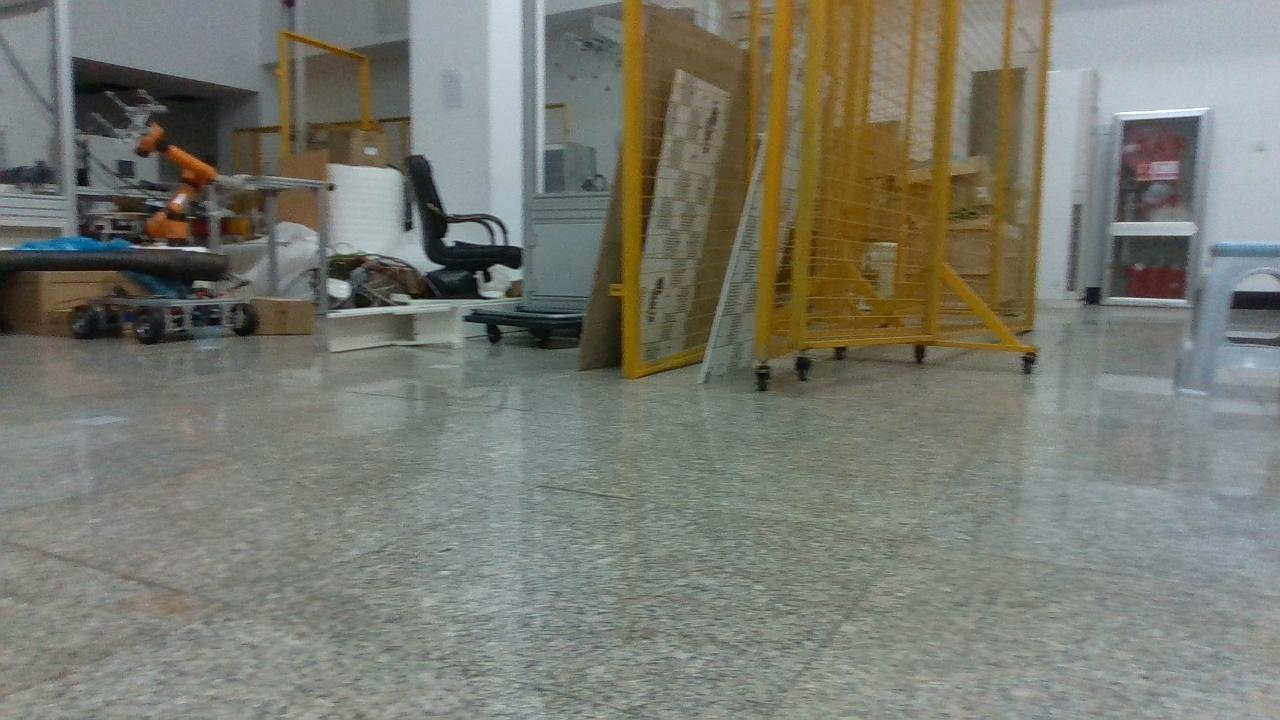stool: (1175, 243, 1280, 394)
